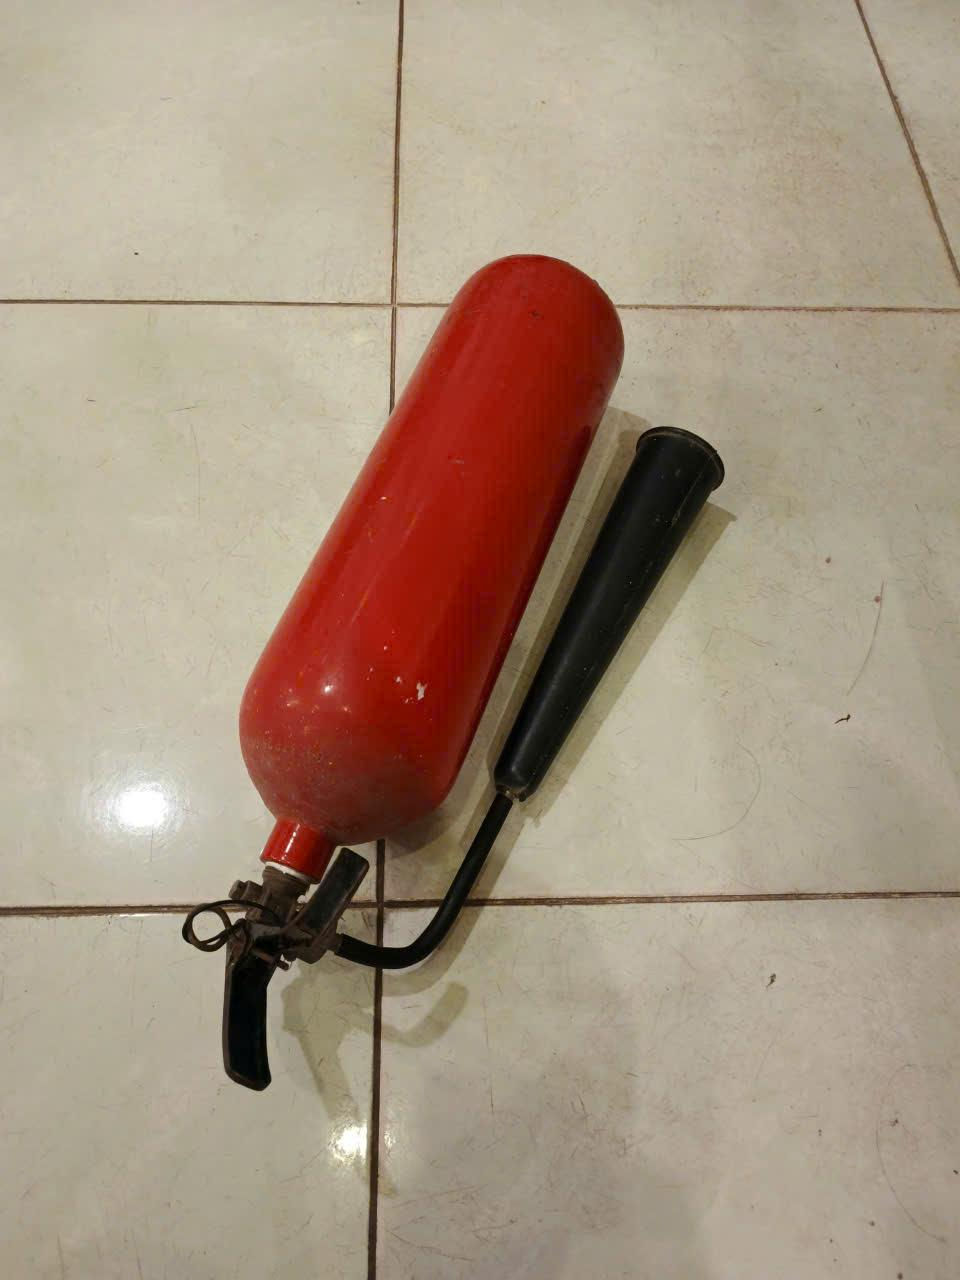Con lai: (177, 253, 728, 1091)
